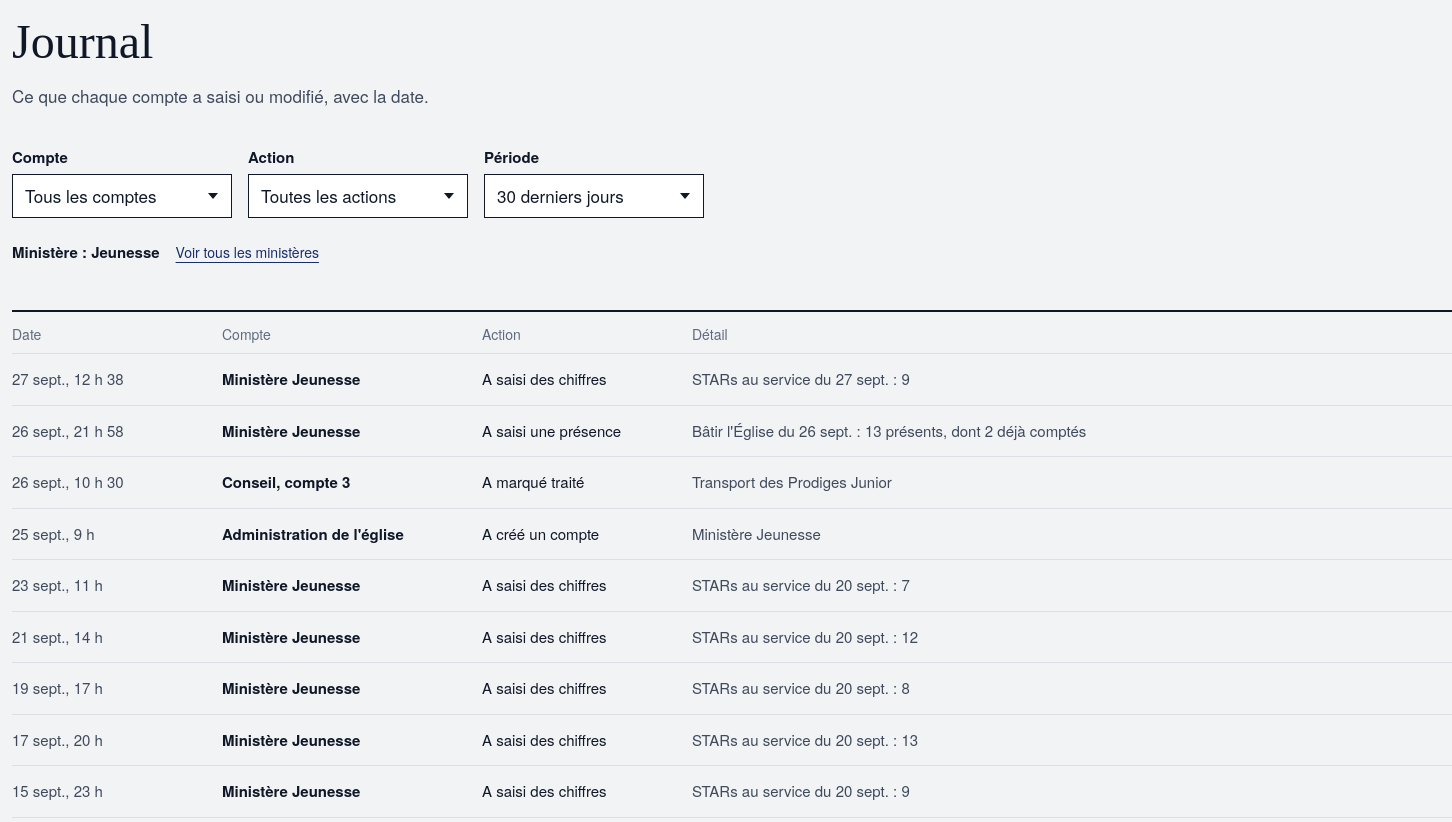
Test case: écran 06 lu par le berger › « Ministère : Jeunesse » avec « Voir tous les ministères »
The image size is (1452, 822).
Expected: the text "Ministère : Jeunesse" is shown, x1=12 y1=241 x2=160 y2=263
Click the button "Voir tous les ministères" at (247, 252), box x1=176 y1=230 x2=319 y2=274
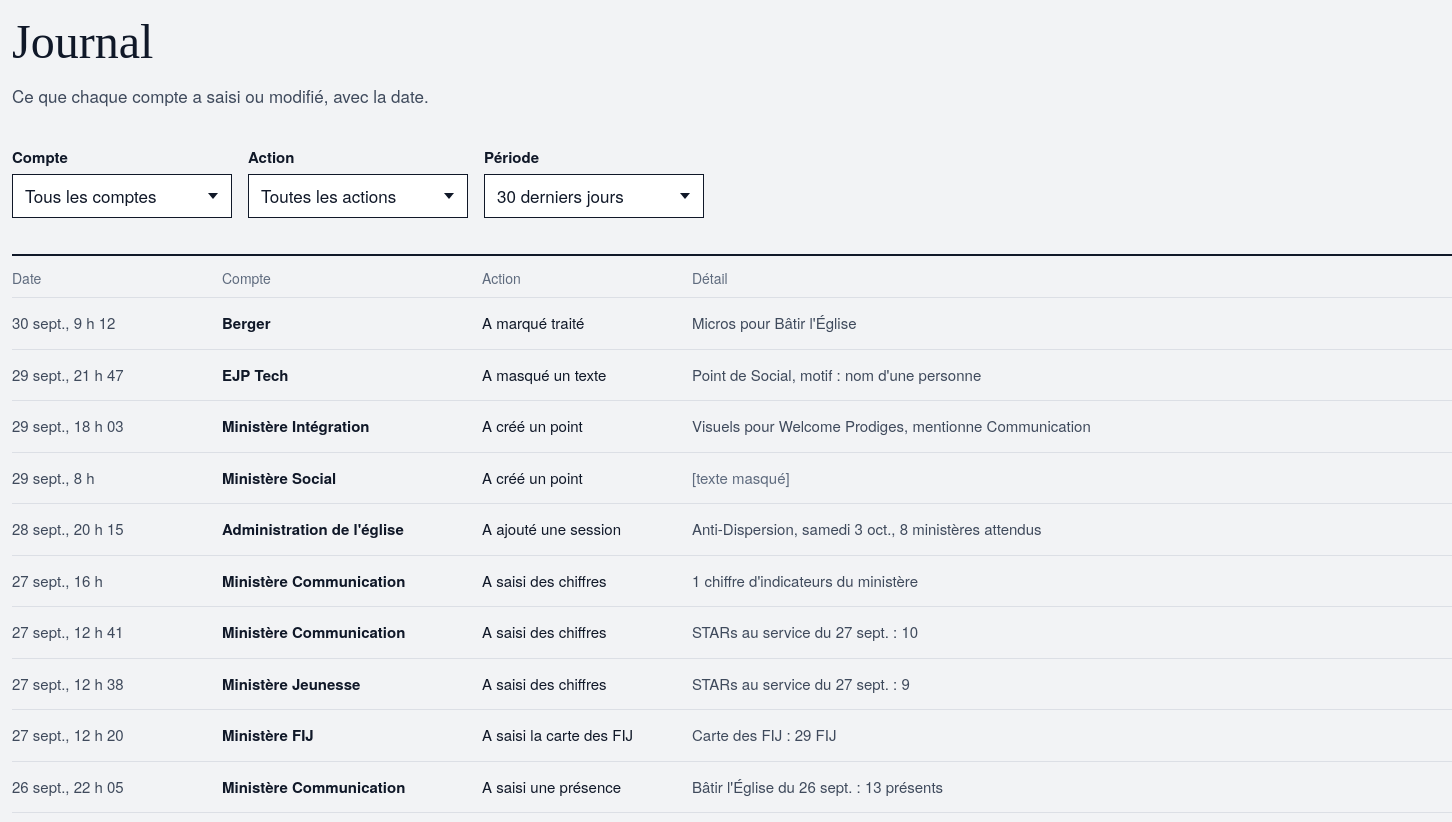
Now the text "Ministère : Jeunesse" is gone
